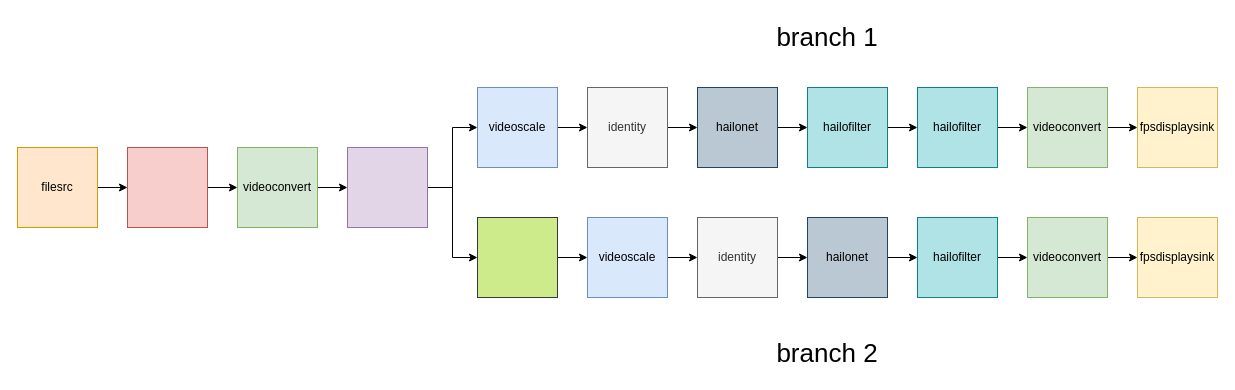
The diagram is 1235 pixels wide and 390 high, and some of its shapes have lost their labels. Each missing label, with the centre of its shape:
aspectratiocrop: (x=517, y=257)
decodebin: (x=167, y=187)
tee: (x=387, y=187)
